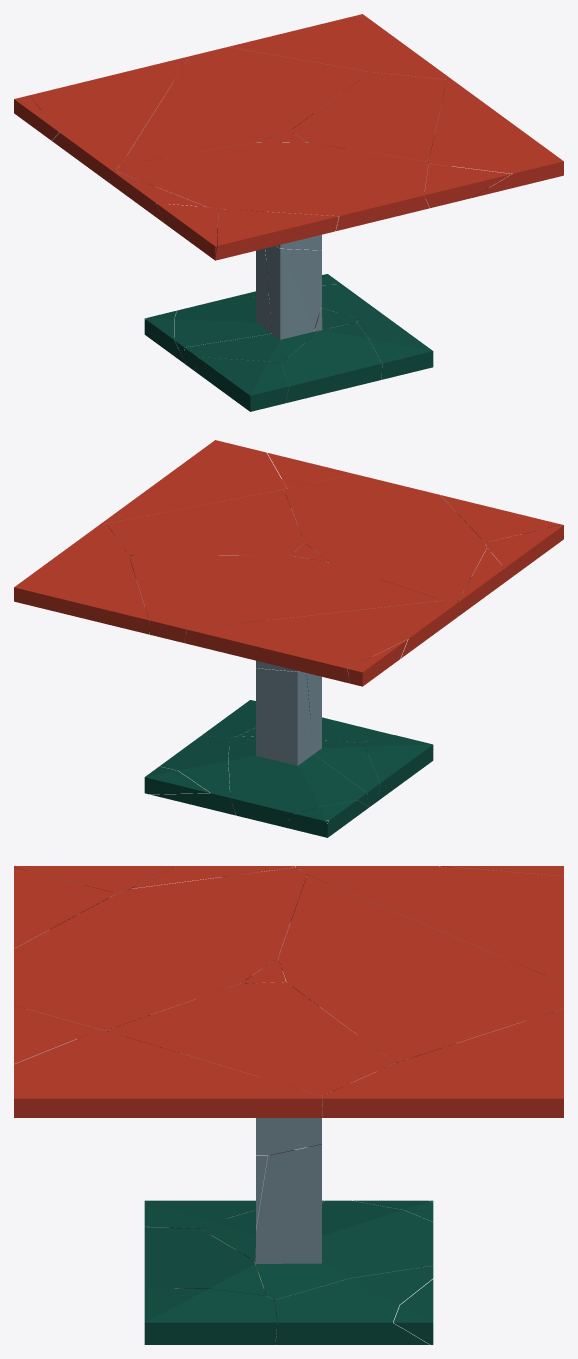
File: bar_table_DEST.fbx
3 views of the same model, one above another, from view 1: azimuth 30°, elevation 25°; view 2: azimuth 150°, elevation 25°; view 3: azimuth 270°, elevation 25° (orthographic). The views are drawn at different scales.
Visible parts, largest first — view 1: polySurface51_cell.010, polySurface51_cell.008, polySurface51_cell.005, polySurface51_cell.009, polySurface51_cell.003, polySurface51_cell.014, polySurface51_cell.006, polySurface51_cell.013, polySurface51_cell.011, polySurface51_cell.002, polySurface51_cell.022, polySurface51_cell.021 (+7 smaller); view 2: polySurface51_cell.010, polySurface51_cell.008, polySurface51_cell.011, polySurface51_cell.005, polySurface51_cell.009, polySurface51_cell.006, polySurface51_cell.003, polySurface51_cell.020, polySurface51_cell.014, polySurface51_cell.022, polySurface51_cell.002, polySurface51_cell (+8 smaller); view 3: polySurface51_cell.010, polySurface51_cell.008, polySurface51_cell.003, polySurface51_cell.009, polySurface51_cell.006, polySurface51_cell.011, polySurface51_cell.005, polySurface51_cell.020, polySurface51_cell.021, polySurface51_cell.013, polySurface51_cell.002, polySurface51_cell.007 (+8 smaller).
Part boxes in pixels (x1=…): polySurface51_cell.010: x1=114, y1=142, x2=429, y2=231; polySurface51_cell.008: x1=121, y1=47, x2=370, y2=164; polySurface51_cell.005: x1=29, y1=56, x2=189, y2=182; polySurface51_cell.009: x1=290, y1=72, x2=446, y2=162; polySurface51_cell.003: x1=428, y1=79, x2=563, y2=197; polySurface51_cell.014: x1=184, y1=246, x2=321, y2=370; polySurface51_cell.006: x1=228, y1=14, x2=450, y2=79; polySurface51_cell.013: x1=281, y1=322, x2=381, y2=402; polySurface51_cell.011: x1=174, y1=248, x2=358, y2=361; polySurface51_cell.002: x1=214, y1=209, x2=338, y2=260; polySurface51_cell.022: x1=194, y1=357, x2=288, y2=411; polySurface51_cell.021: x1=357, y1=315, x2=433, y2=379; polySurface51_cell.010: x1=284, y1=474, x2=486, y2=600; polySurface51_cell.008: x1=129, y1=555, x2=442, y2=642; polySurface51_cell.011: x1=228, y1=668, x2=368, y2=826; polySurface51_cell.005: x1=184, y1=600, x2=460, y2=683; polySurface51_cell.009: x1=106, y1=489, x2=304, y2=555; polySurface51_cell.006: x1=14, y1=522, x2=148, y2=634; polySurface51_cell.003: x1=103, y1=440, x2=287, y2=523; polySurface51_cell.020: x1=150, y1=735, x2=235, y2=815; polySurface51_cell.014: x1=306, y1=673, x2=380, y2=807; polySurface51_cell.022: x1=361, y1=735, x2=433, y2=800; polySurface51_cell.002: x1=440, y1=495, x2=563, y2=543; polySurface51_cell: x1=485, y1=524, x2=563, y2=575; polySurface51_cell.010: x1=14, y1=867, x2=306, y2=1030; polySurface51_cell.008: x1=278, y1=875, x2=563, y2=1062; polySurface51_cell.003: x1=14, y1=1029, x2=322, y2=1117; polySurface51_cell.009: x1=106, y1=982, x2=394, y2=1098; polySurface51_cell.006: x1=322, y1=1008, x2=563, y2=1117; polySurface51_cell.011: x1=254, y1=1144, x2=433, y2=1300; polySurface51_cell.005: x1=295, y1=866, x2=563, y2=982; polySurface51_cell.020: x1=274, y1=1266, x2=433, y2=1344; polySurface51_cell.021: x1=144, y1=1288, x2=277, y2=1344; polySurface51_cell.013: x1=144, y1=1227, x2=265, y2=1295; polySurface51_cell.002: x1=14, y1=867, x2=116, y2=948; polySurface51_cell.007: x1=241, y1=958, x2=321, y2=1155.
Size of the model in its own units: 3.1 by 1.87 by 3.1.
